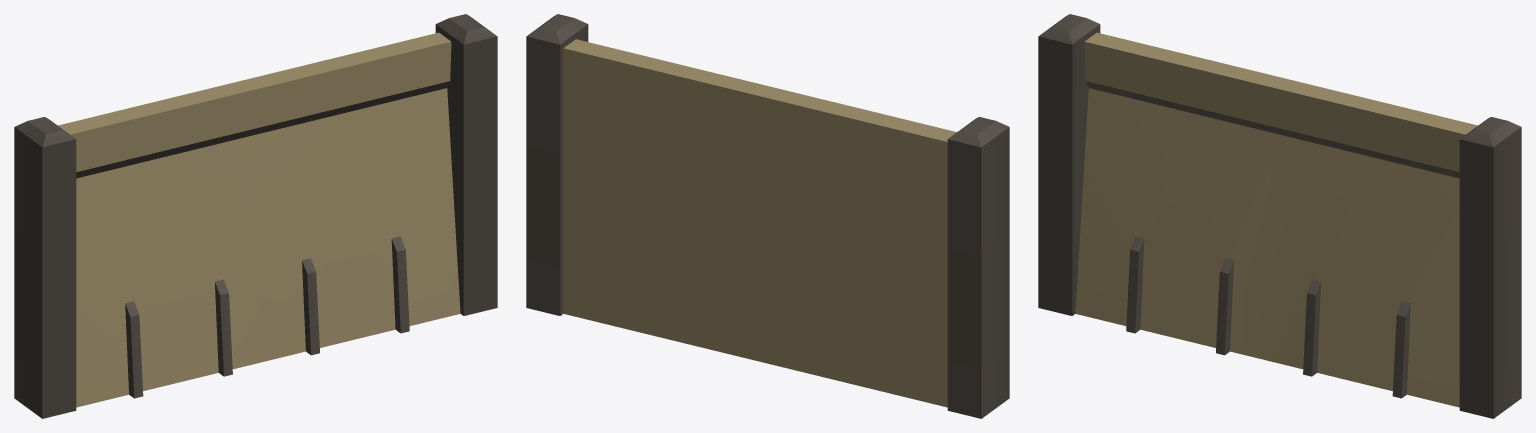
File: RobotWallLenght.fbx
3 views of the same model, side by side, from view 1: azimuth 30°, elevation 25°; view 2: azimuth 150°, elevation 25°; view 3: azimuth 330°, elevation 25° (orthographic).
Parts seen in each view (by area): view 1: wall3; view 2: wall3; view 3: wall3.
Part boxes in pixels (bbox=[...]): wall3: bbox=[14, 14, 497, 418]; wall3: bbox=[526, 14, 1009, 418]; wall3: bbox=[1038, 14, 1521, 418].
Bounding box in the file's own units: 7.03 × 4.12 × 0.8056.
